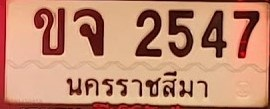txt02: (32, 6, 66, 58)
txt06: (71, 7, 106, 58)
